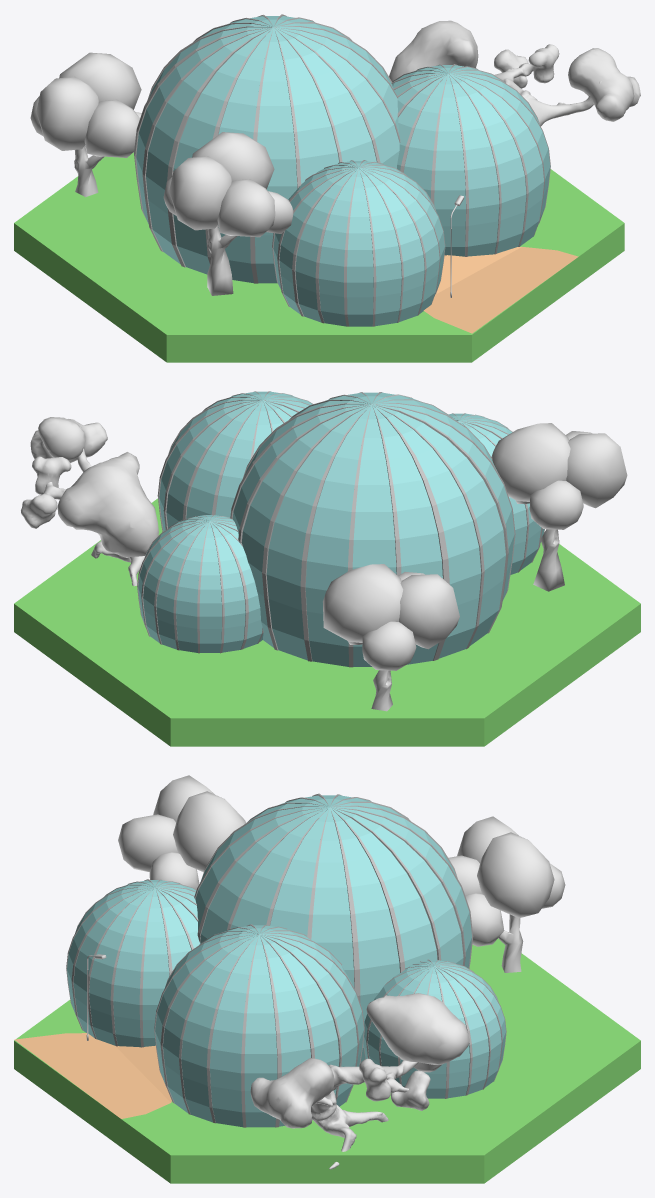
Rendered from Science_musuem.fbx.
The picture shows the model from 3 angles, top to bottom: view 1: azimuth 30°, elevation 25°; view 2: azimuth 150°, elevation 25°; view 3: azimuth 270°, elevation 25°; orthographic projection. The views are drawn at different scales.
Parts seen in each view (by area): view 1: Bubble, Hexagon, Icosphere.003, Icosphere.002, Crown left, Plane, Base, Icosphere.007, Icosphere.001; view 2: Bubble, Hexagon, Crown left, Icosphere.002, Icosphere.003, Icosphere.007, Base, Icosphere.001; view 3: Bubble, Hexagon, Crown left, Icosphere.002, Icosphere.003, Plane, Base, Icosphere.001.
Boxes of the visible parts, x1,y1,x2,y2 form: Bubble: (134,14,550,326); Hexagon: (14,152,624,362); Icosphere.003: (163,132,293,237); Icosphere.002: (30,52,141,157); Crown left: (389,20,640,121); Plane: (423,246,578,333); Base: (494,63,601,126); Icosphere.007: (207,224,237,295); Icosphere.001: (74,145,104,197); Bubble: (137,391,544,667); Hexagon: (14,498,640,746); Crown left: (21,417,158,557); Icosphere.002: (323,564,459,670); Icosphere.003: (491,423,627,529); Icosphere.007: (533,529,564,591); Base: (43,427,144,586); Icosphere.001: (371,670,392,711); Bubble: (66,793,506,1127); Hexagon: (14,938,640,1183); Crown left: (250,993,469,1128); Icosphere.002: (448,816,565,946); Icosphere.003: (118,775,246,889); Plane: (14,1033,171,1118); Base: (311,1060,418,1169); Icosphere.001: (498,914,523,972).
Bounding box in the file's own units: 20000 × 20103 × 8438.
